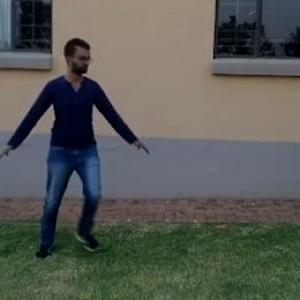land: (1, 44, 139, 231)
